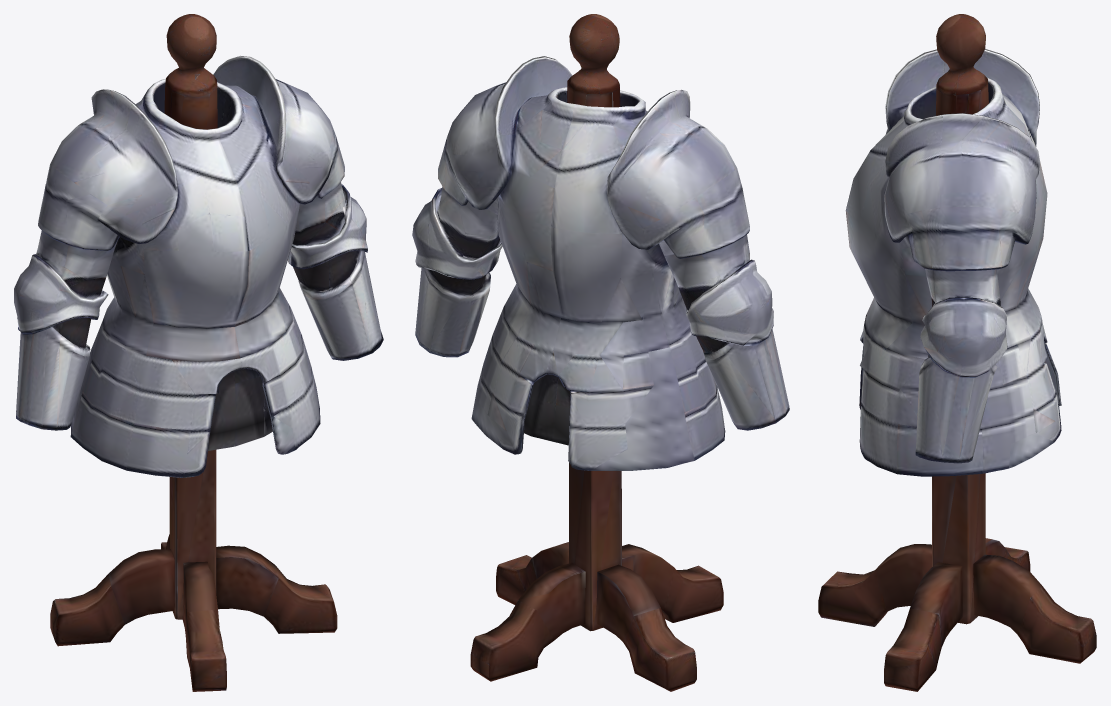
Rendered from item-armorStand.glb.
The picture shows the model from 3 angles, left to right: view 1: azimuth 30°, elevation 25°; view 2: azimuth 150°, elevation 25°; view 3: azimuth 270°, elevation 25°; orthographic projection.
Size of the model in its own units: 0.5825 by 0.9512 by 0.3877.
Materials: 1 (1 with a texture image).
